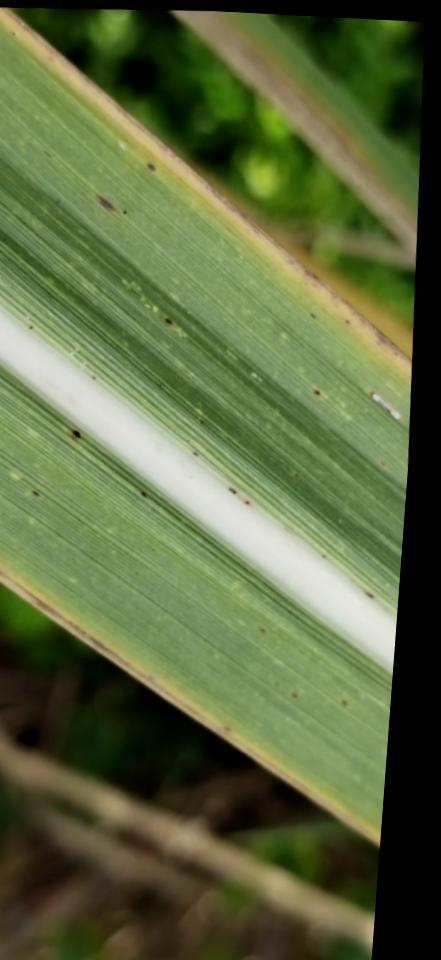Rust: (367, 389, 401, 422), (92, 192, 121, 218), (225, 484, 251, 507), (162, 314, 179, 333), (67, 426, 84, 443), (309, 385, 326, 401), (142, 160, 158, 176), (26, 485, 41, 499), (361, 588, 375, 602), (187, 449, 201, 460), (136, 488, 149, 498), (256, 623, 268, 633), (291, 689, 299, 700), (340, 697, 348, 706), (25, 322, 34, 330), (89, 373, 97, 382)
Yellow: (0, 21, 410, 388), (0, 559, 381, 847)
